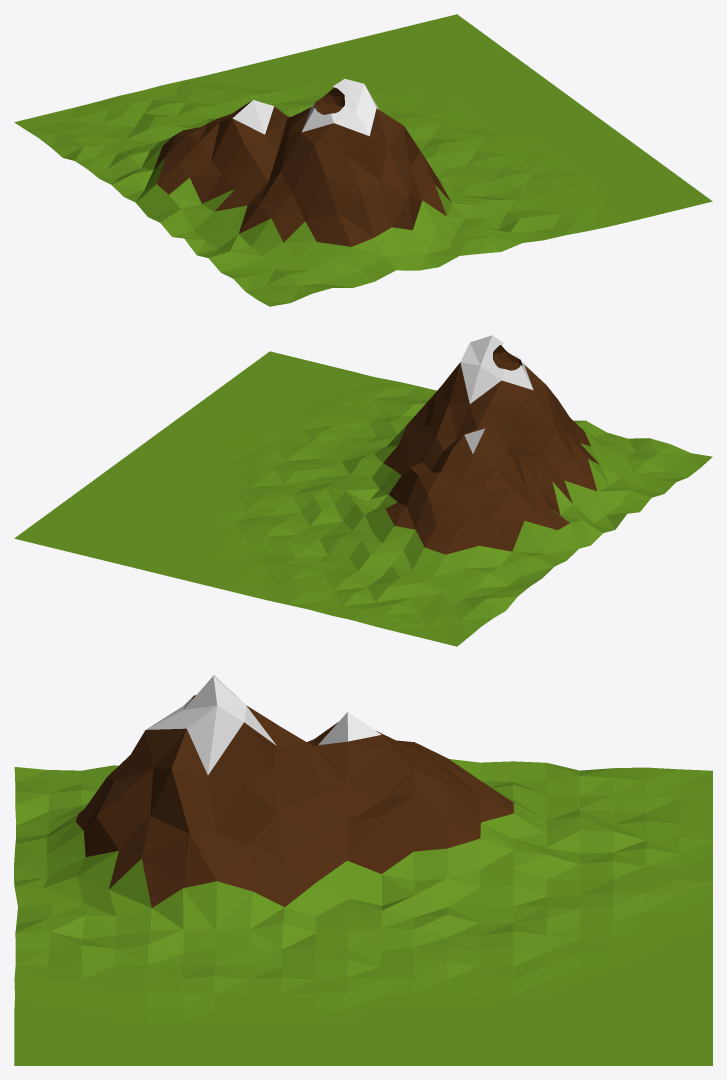
The model's file is mountain.glb.
3 views of the same model, one above another, from view 1: azimuth 30°, elevation 25°; view 2: azimuth 150°, elevation 25°; view 3: azimuth 270°, elevation 25° (orthographic). The views are drawn at different scales.
Visible parts, largest first — view 1: Plane.004, Mountain top.001, Mountain top.002; view 2: Plane.004, Mountain top.001, Mountain top.002; view 3: Plane.004, Mountain top.002, Mountain top.001.
Part boxes in pixels (x1,y1,x2,y2): Plane.004: [14, 14, 712, 306]; Mountain top.001: [289, 87, 403, 155]; Mountain top.002: [302, 78, 378, 136]; Plane.004: [14, 351, 712, 646]; Mountain top.001: [437, 345, 545, 406]; Mountain top.002: [460, 335, 533, 403]; Plane.004: [14, 712, 712, 1065]; Mountain top.002: [146, 675, 276, 774]; Mountain top.001: [145, 695, 281, 784].
Size of the model in its own units: 80 by 24.42 by 80.05.
